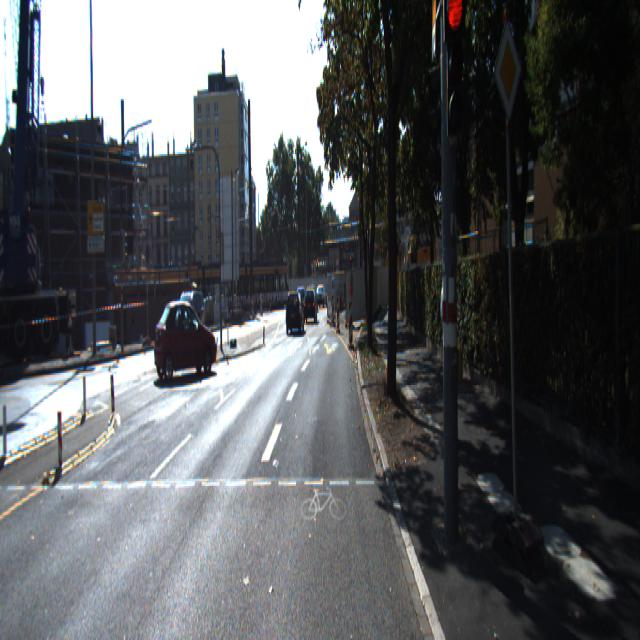Car: (152, 297, 218, 381), (171, 286, 206, 342), (284, 287, 304, 331), (303, 285, 317, 321)
